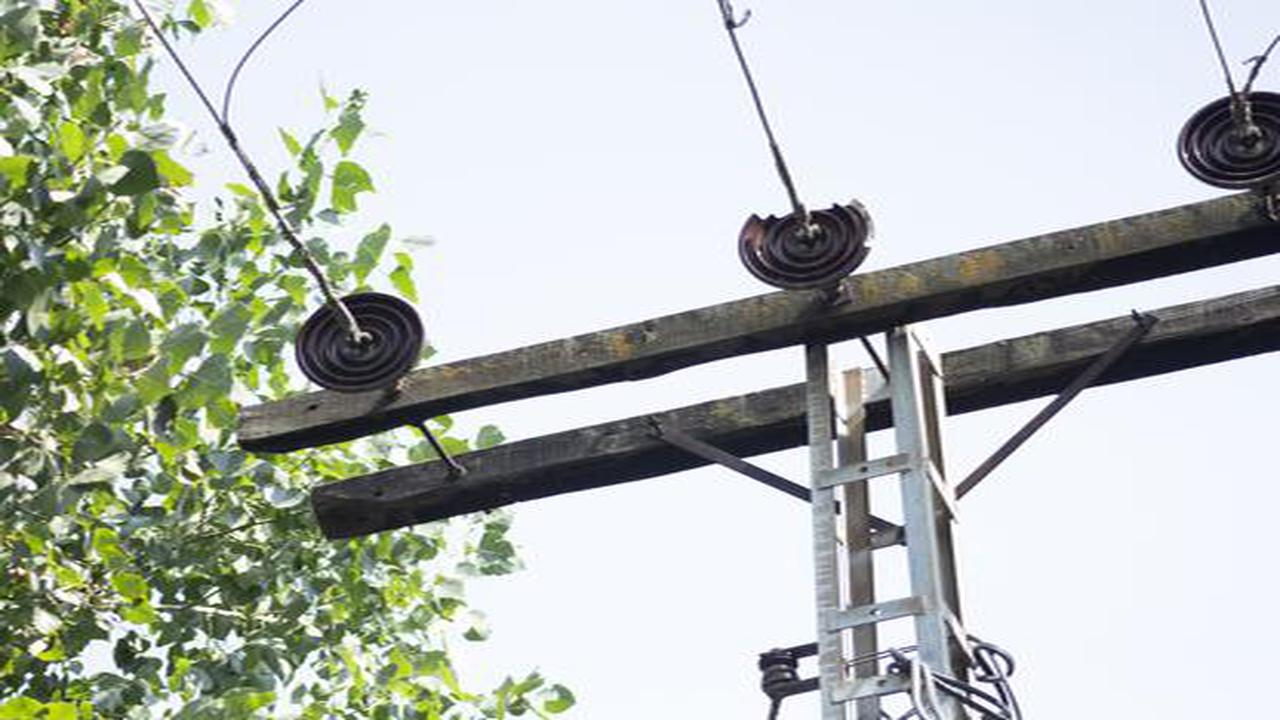defect_disc: (733, 194, 893, 291)
insulator_disc: (292, 288, 432, 392), (1175, 86, 1269, 186)
